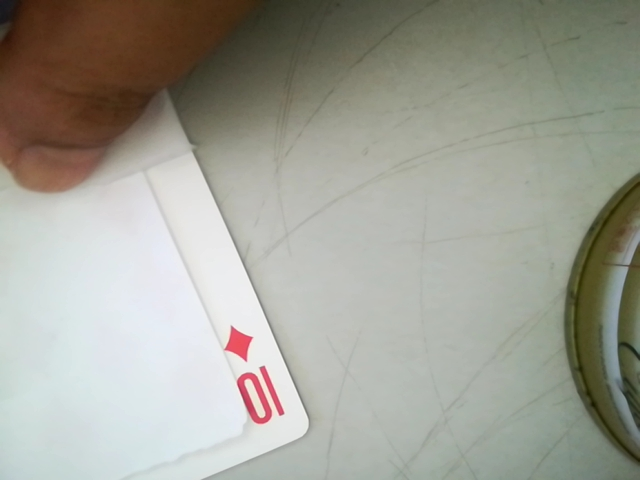fk 10: (210, 315, 290, 439)
